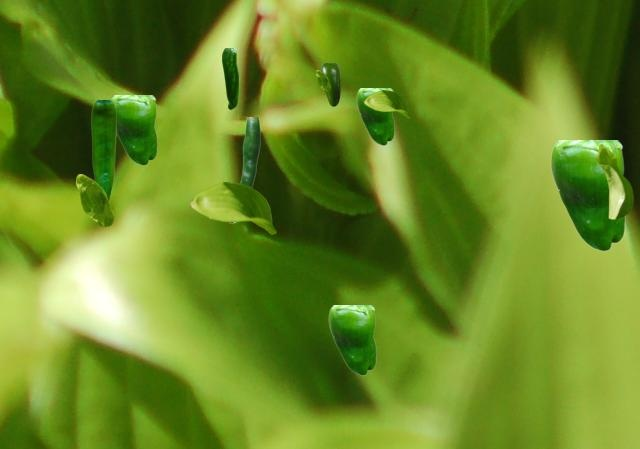green_chili: (550, 140, 624, 250), (328, 305, 375, 374), (110, 95, 156, 164), (91, 100, 115, 200), (356, 88, 393, 144), (240, 117, 259, 186), (222, 48, 237, 108), (321, 63, 339, 105)
